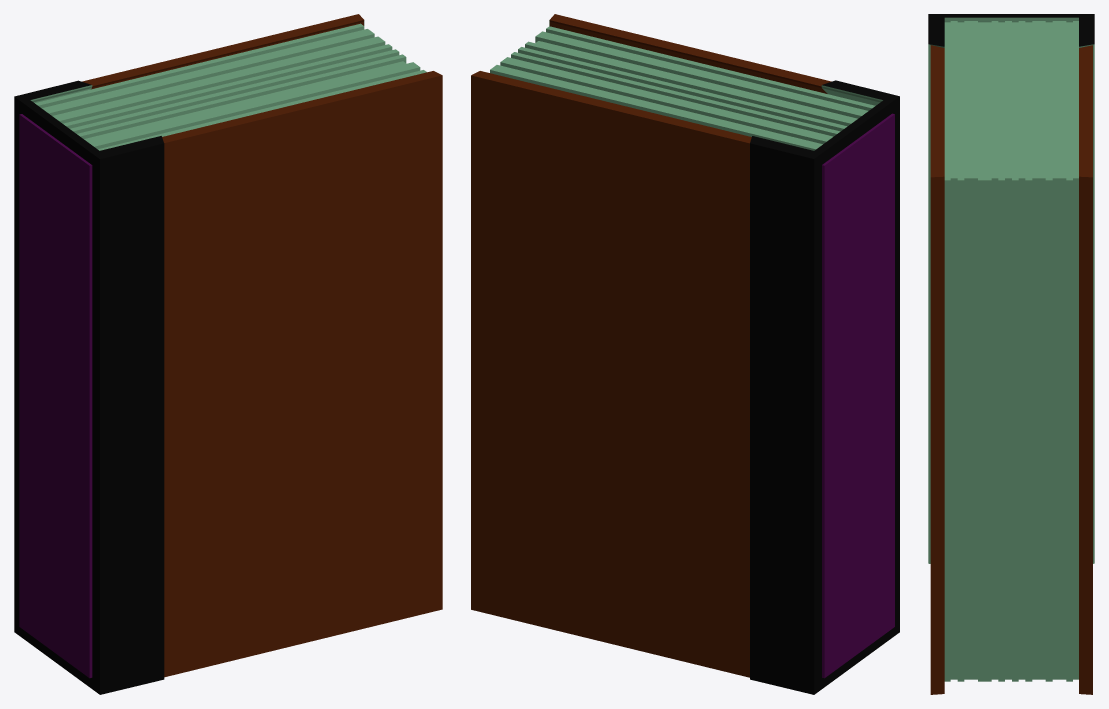
The model's file is DeskBook1.fbx.
3 renders of one model, left to right at view 1: azimuth 30°, elevation 25°; view 2: azimuth 150°, elevation 25°; view 3: azimuth 270°, elevation 25°, orthographic. The views are drawn at different scales.
Parts seen in each view (by area): view 1: BigBook; view 2: BigBook; view 3: BigBook.
Part boxes in pixels (x1=…): BigBook: x1=14, y1=14, x2=442, y2=694; BigBook: x1=471, y1=14, x2=899, y2=694; BigBook: x1=928, y1=14, x2=1094, y2=694.
Bounding box in the file's own units: 128 × 189 × 54.85.
